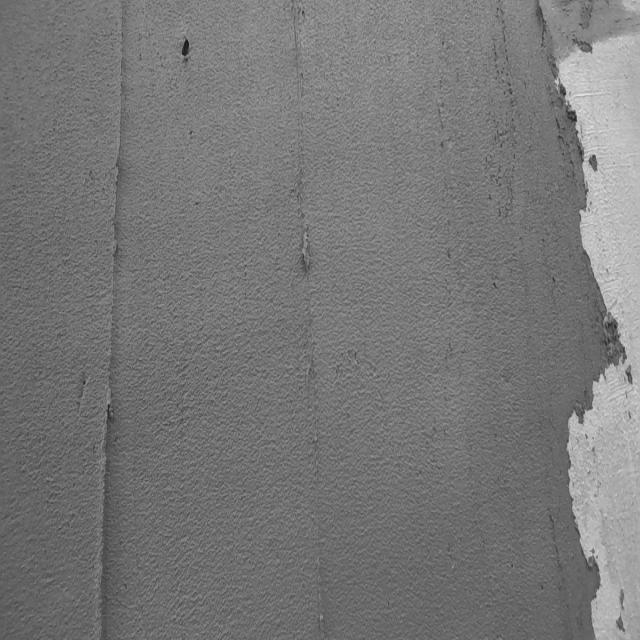trowels marks: (90, 6, 132, 640)
